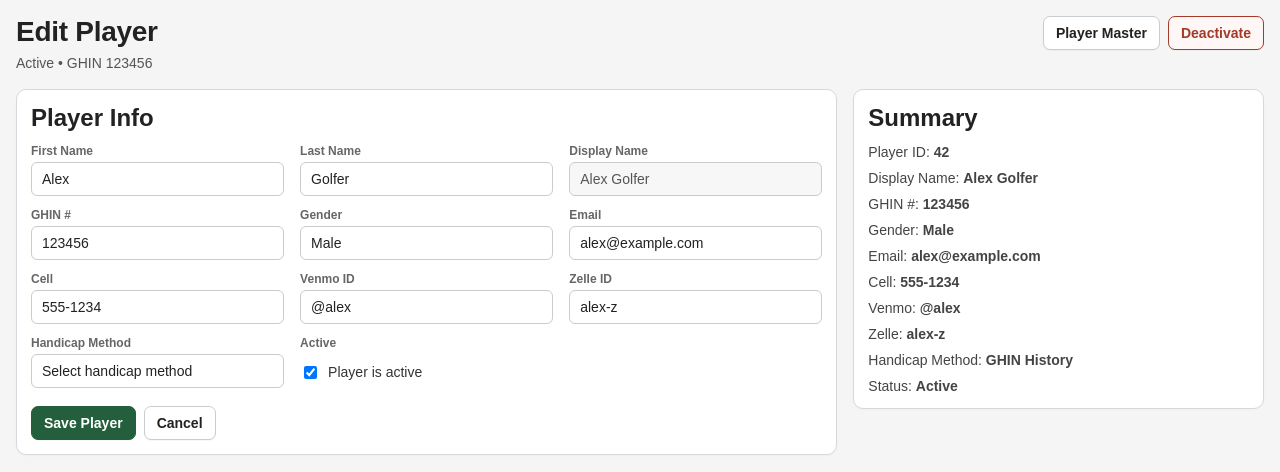
Test: Player edit page characterization (before extraction) › recomputes the read-only display name and summary when names change
The width and height of the screenshot is (1280, 472).
Check: the heading "Player Info" is shown, box [31,104,154,131]
Replace the text in the field below "First Name" with "  Taylor  " at coordinates (158, 179), box [31,162,284,196]
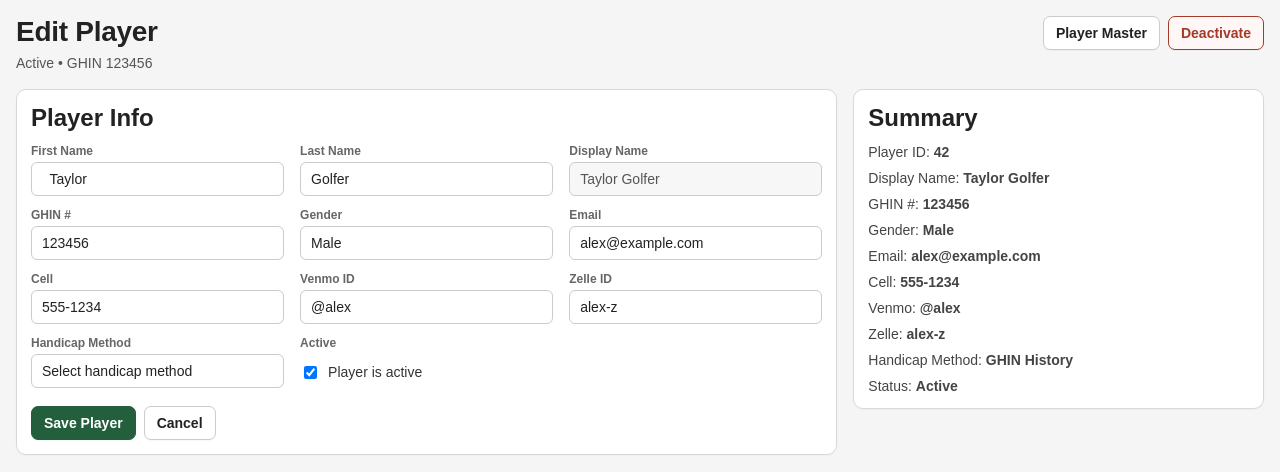
Check: the 3rd field holds "Taylor Golfer", box [569,162,822,196]
Check: the text "Display Name: Taylor Golfer" is shown, box [868,170,1049,186]
